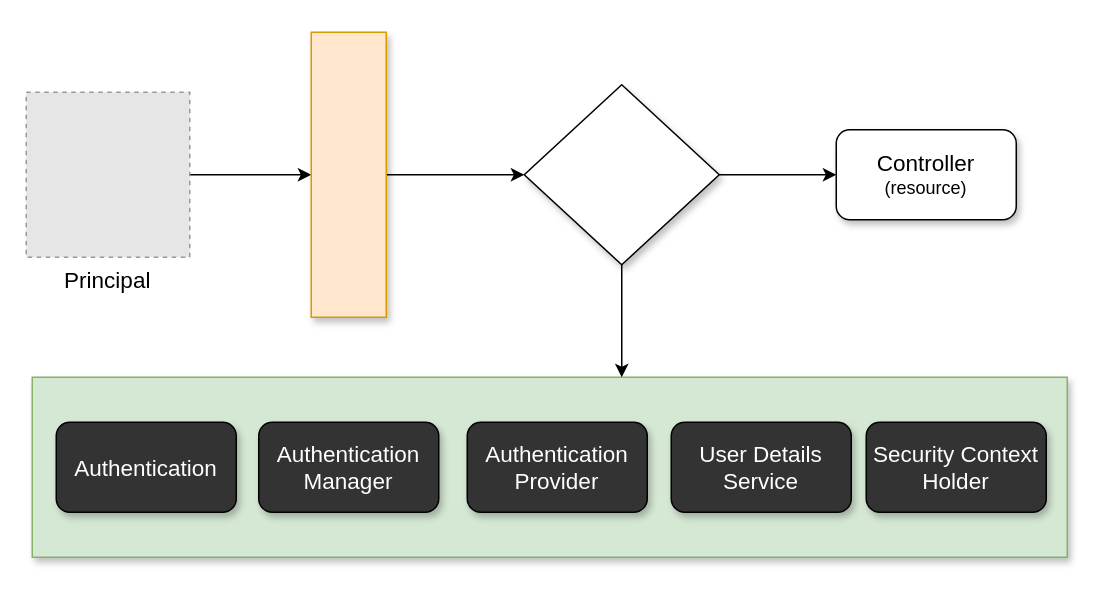
Image size: 1103x594. Some labels were removed from this diagram. Grey dashed boxes stand in for pictures. Each missing label, with the centre of its shape:
Authenticated?: the point at 622,176
Security Interceptor: the point at 349,176
